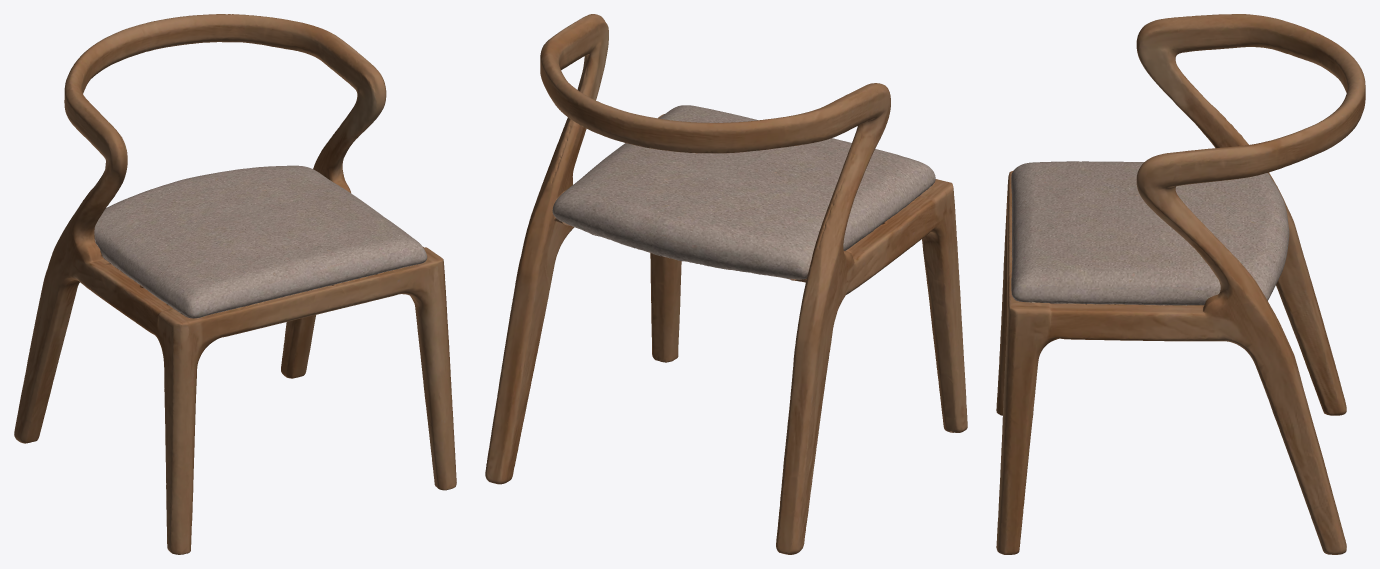
File: item-10.glb
3 renders of one model, left to right at view 1: azimuth 30°, elevation 25°; view 2: azimuth 150°, elevation 25°; view 3: azimuth 270°, elevation 25°, orthographic. The views are drawn at different scales.
Parts seen in each view (by area): view 1: geometry_0; view 2: geometry_0; view 3: geometry_0.
Part boxes in pixels (x1=…): geometry_0: x1=14, y1=14, x2=456, y2=554; geometry_0: x1=485, y1=14, x2=967, y2=554; geometry_0: x1=996, y1=14, x2=1365, y2=554.
Size of the model in its own units: 0.7981 by 0.9997 by 0.8317.
1 material, 1 textured.
